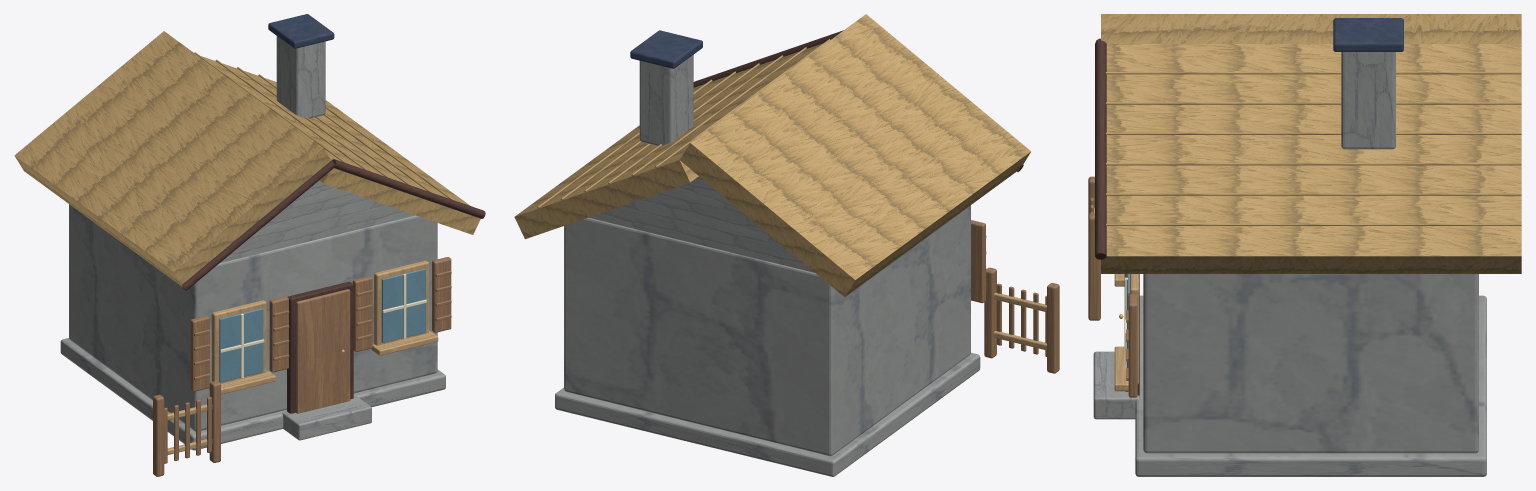
The model's file is house_3.glb.
3 renders of one model, left to right at view 1: azimuth 30°, elevation 25°; view 2: azimuth 150°, elevation 25°; view 3: azimuth 270°, elevation 25°, orthographic. The views are drawn at different scales.
Parts seen in each view (by area): view 1: house_3; view 2: house_3; view 3: house_3.
Boxes of the visible parts, box(x1,y1,x2,y2) form: house_3: box(14, 14, 485, 476); house_3: box(514, 14, 1059, 476); house_3: box(1088, 14, 1521, 476).
Bounding box in the file's own units: 5.73 × 5.13 × 4.9.
Materials: 3 (3 with a texture image).
